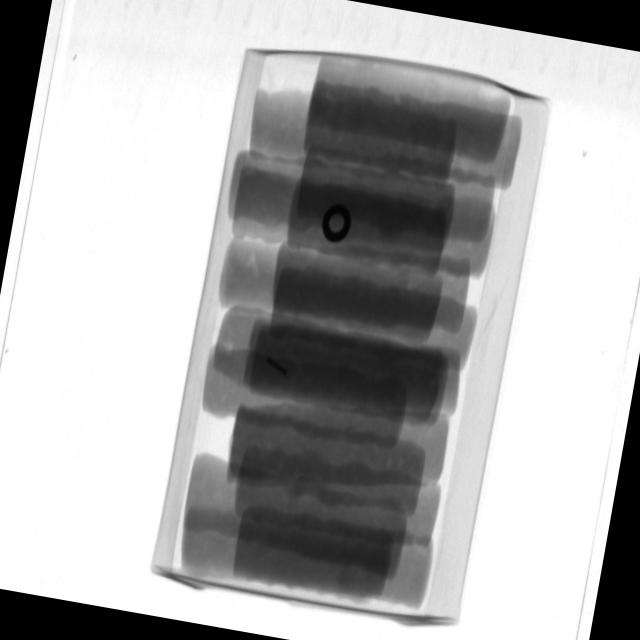ym: (321, 203, 355, 246), (265, 354, 291, 377)
